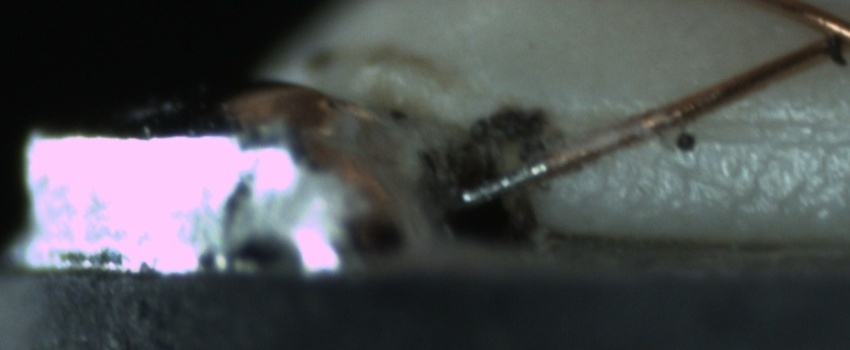CL: (794, 6, 848, 66)
DL: (667, 95, 847, 160)
TS: (452, 158, 542, 209)
